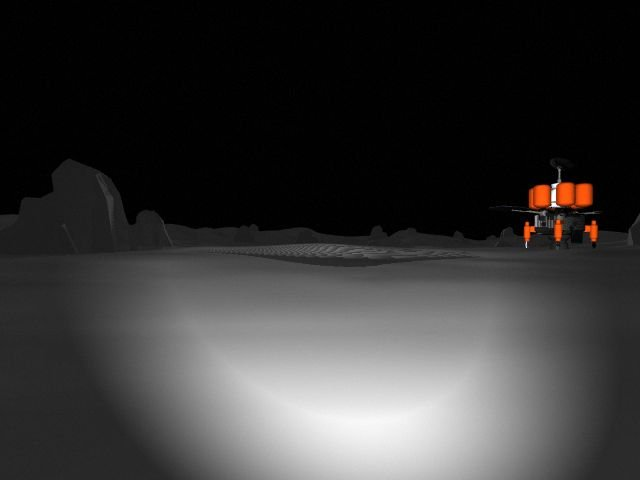homebase: (486, 154, 616, 252)
